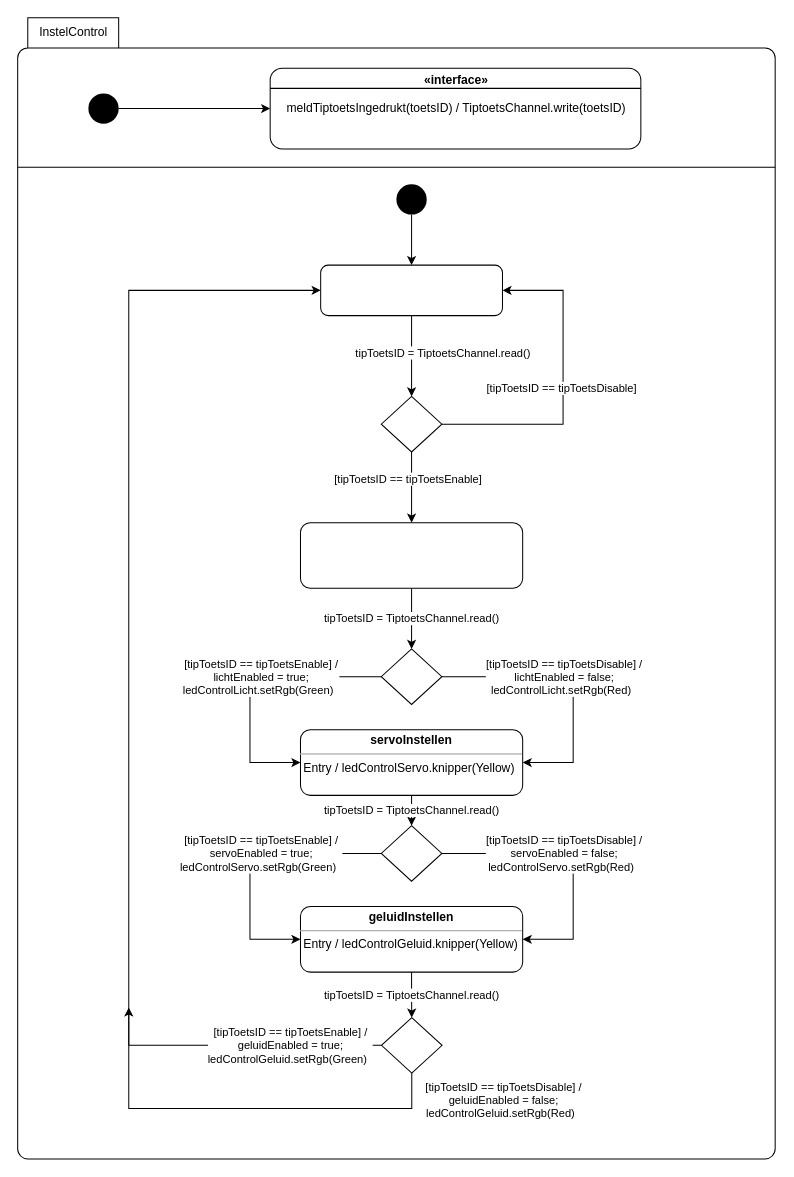
Some shapes in this 794 by 1177 pixel diagram are drawn without their labels. Each missing label, with the centre of its shape:
IDLE: (411,290)
lichtInstellen Entry / ledControlLicht.knipper(Yellow): (411,555)
